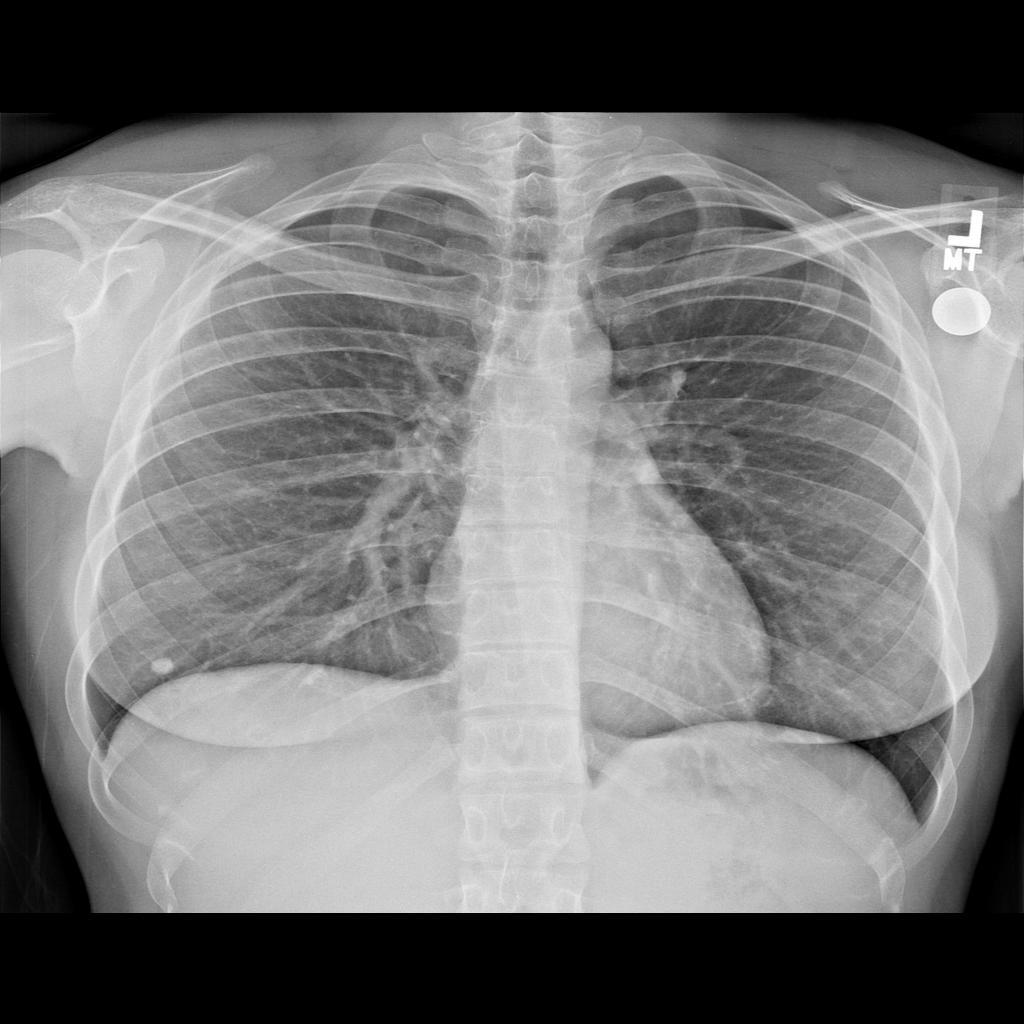Nodule: (145, 652, 180, 684)
